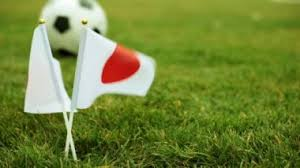Japanese Flag: (75, 23, 157, 108)
